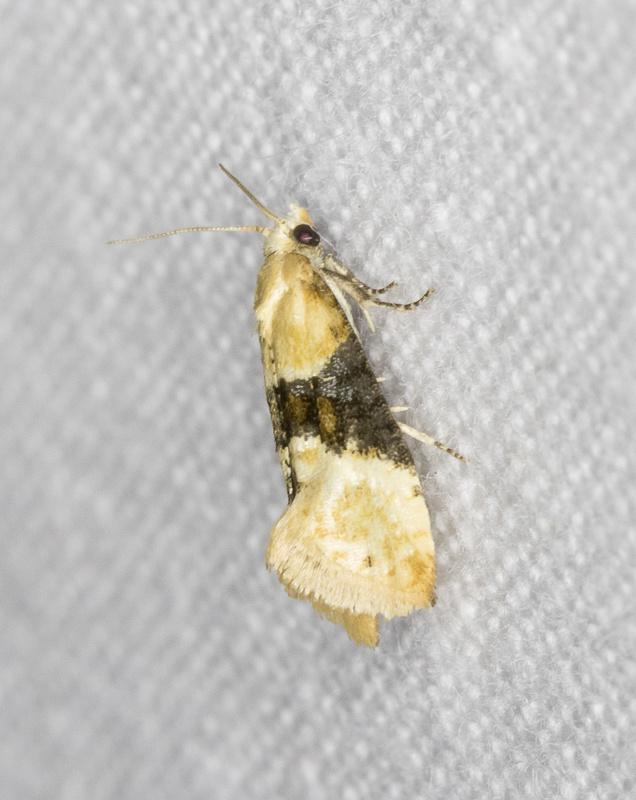Eupoecilia Ambiguella: (105, 160, 467, 650)
